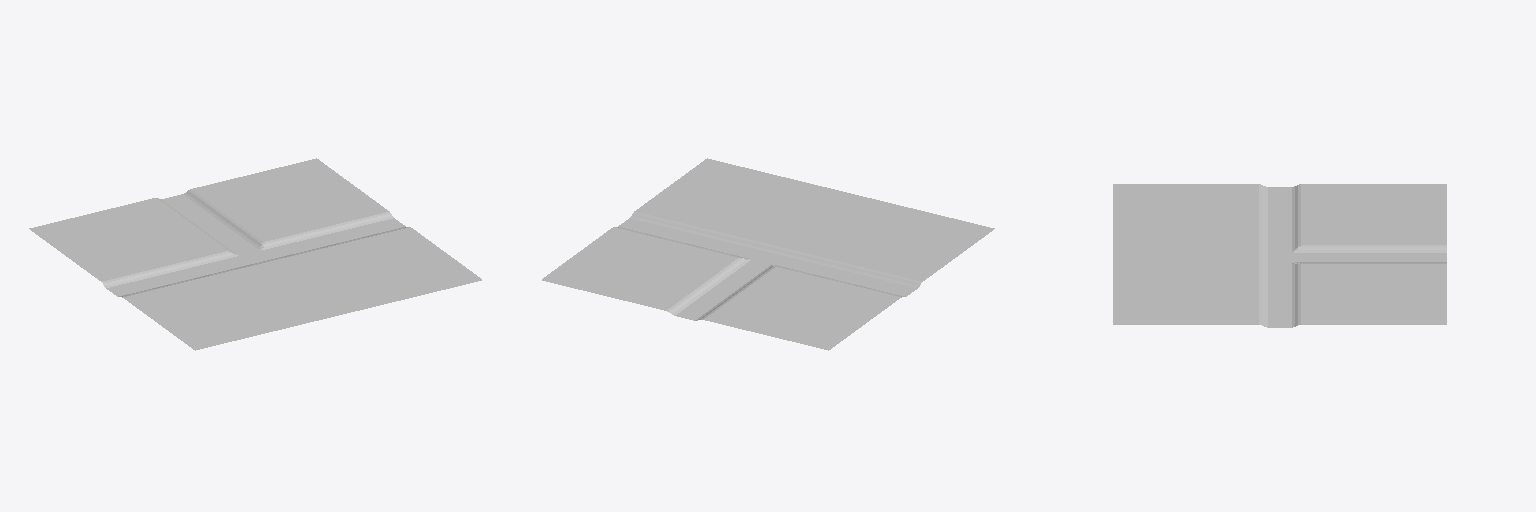
The model's file is Terrain_Part_Plane_10.obj.
The picture shows the model from 3 angles: view 1: azimuth 30°, elevation 25°; view 2: azimuth 150°, elevation 25°; view 3: azimuth 270°, elevation 25°; orthographic projection.
Parts seen in each view (by area): view 1: Terrain_Part_Plane_10_Plane.027; view 2: Terrain_Part_Plane_10_Plane.027; view 3: Terrain_Part_Plane_10_Plane.027.
Part boxes in pixels (x1,y1,x2,y2): Terrain_Part_Plane_10_Plane.027: (29,158,481,350); Terrain_Part_Plane_10_Plane.027: (542,158,994,350); Terrain_Part_Plane_10_Plane.027: (1113,184,1446,327).
Size of the model in its own units: 20 by 0.2 by 20.